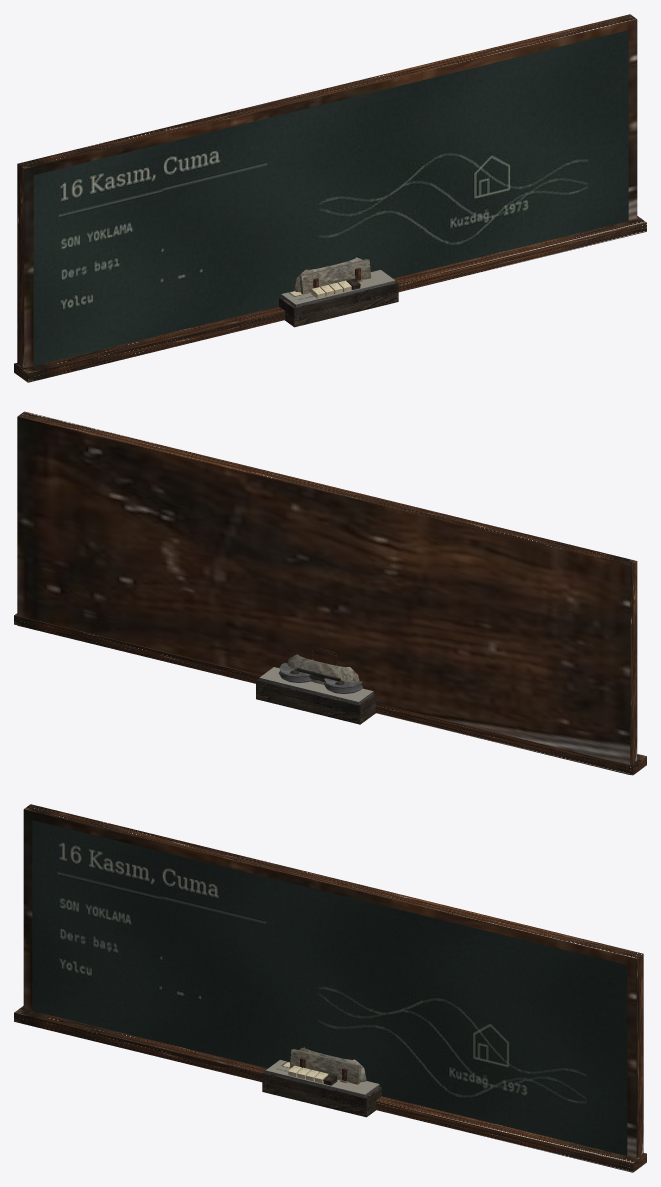
The model's file is gece-esyasi.glb.
3 renders of one model, top to bottom at view 1: azimuth 30°, elevation 25°; view 2: azimuth 150°, elevation 25°; view 3: azimuth 330°, elevation 25°, orthographic.
Visible parts, largest first — view 1: tahta, makara, heybe; view 2: tahta, makara, heybe; view 3: tahta, makara, heybe.
Boxes of the visible parts, x1,y1,x2,y2 form: tahta: (14,14,646,382); makara: (279,270,398,327); heybe: (294,257,371,294); tahta: (14,411,646,775); makara: (256,663,375,724); heybe: (287,646,359,684); tahta: (14,804,646,1172); makara: (262,1060,381,1117); heybe: (289,1047,366,1084).
Bounding box in the file's own units: 4.09 × 1.35 × 0.44.
5 materials, 5 textured.
